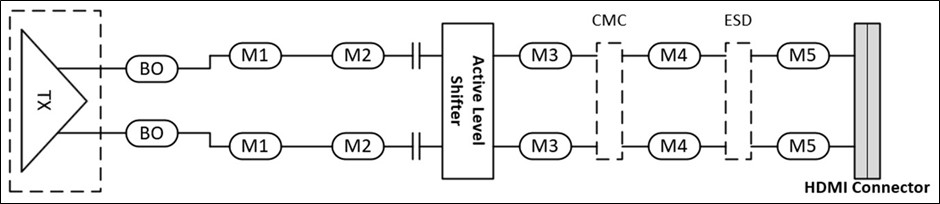capacitor: (405, 36, 427, 73), (404, 128, 426, 165)
dotted_rectangle: (6, 4, 112, 196), (590, 35, 627, 166), (719, 35, 756, 166)
oval: (121, 47, 185, 88), (124, 114, 179, 151), (226, 37, 281, 74), (227, 126, 282, 163), (330, 39, 385, 76), (330, 126, 385, 163), (517, 38, 572, 75), (517, 128, 572, 165), (647, 37, 702, 74), (645, 128, 700, 165), (775, 38, 830, 75), (775, 128, 830, 165)
rectangle: (434, 14, 500, 186), (848, 18, 887, 182)
triangle: (16, 26, 89, 174)
